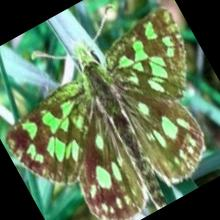butterfly: (4, 7, 206, 220)
